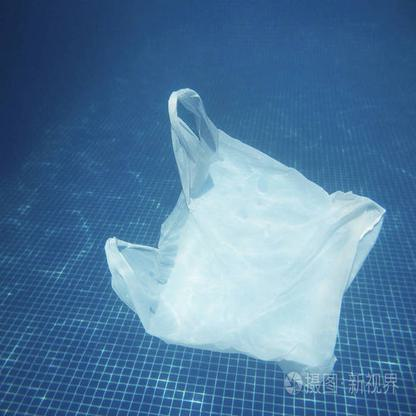plastic bag: (105, 87, 386, 387)
